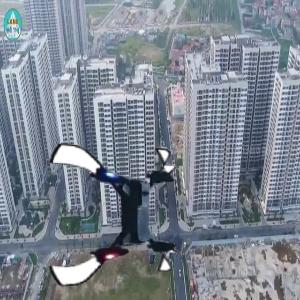drone: (38, 144, 186, 292)
